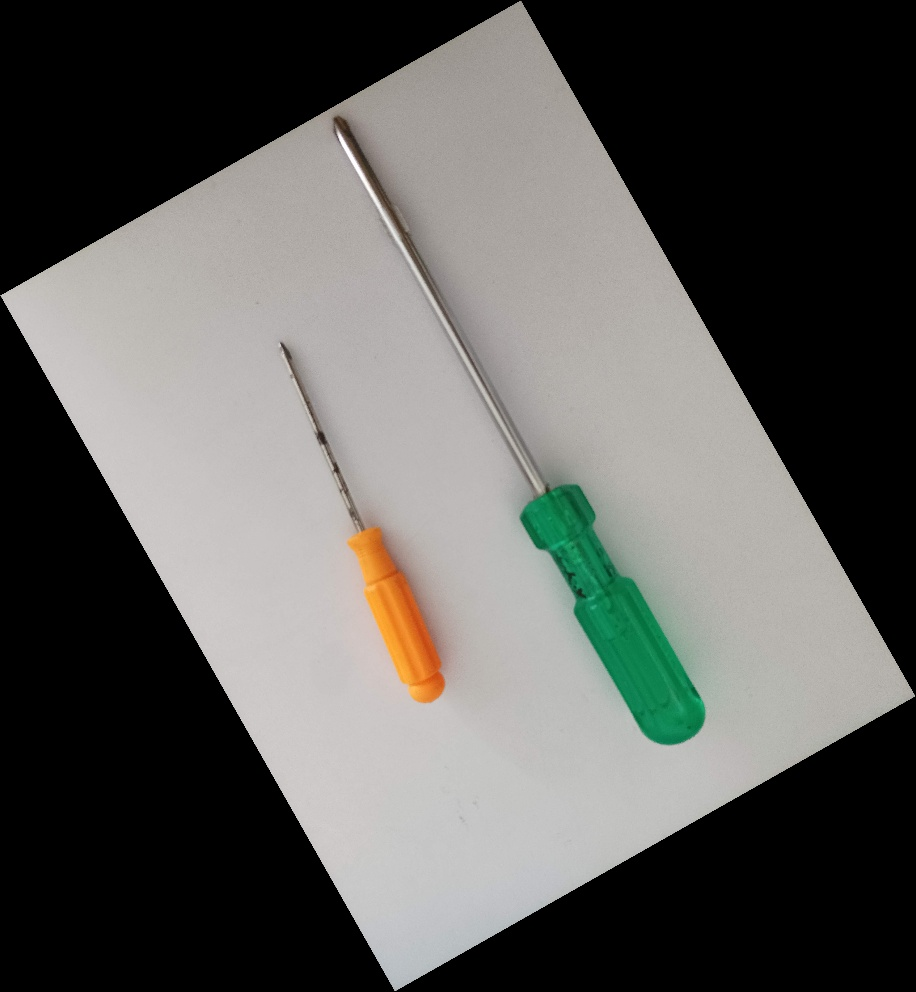screwdriver: (328, 106, 709, 749), (276, 338, 450, 706)
